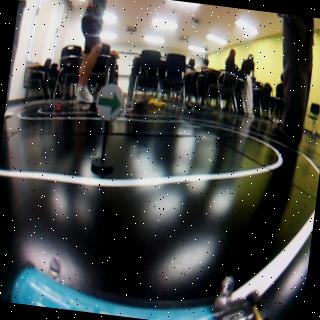right: (96, 83, 126, 123)
